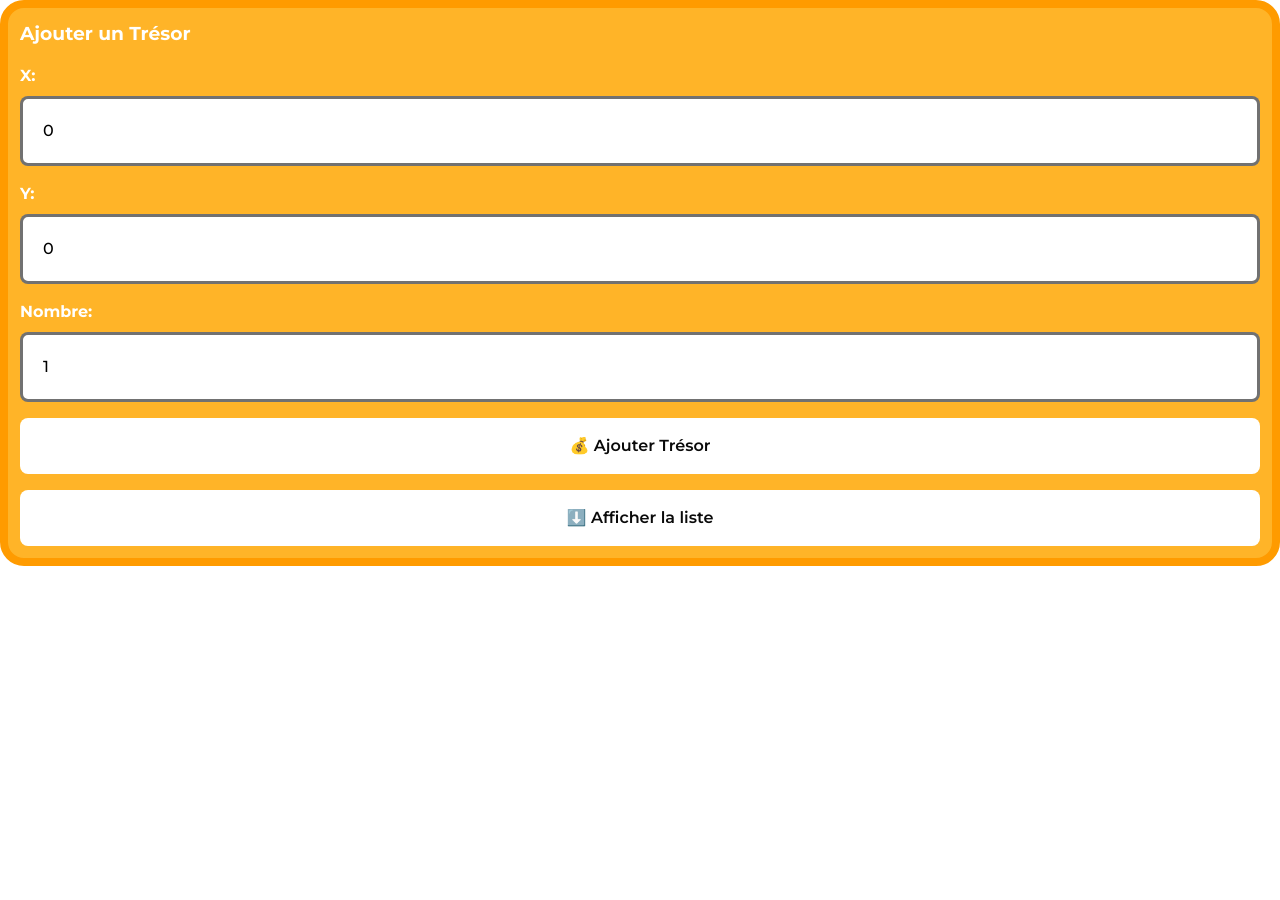
it: TreasureForm › -> Affiche la liste des trésors après avoir cliqué sur Afficher la liste.
Expected: the text "Liste des Trésors" is not shown
Click the button with test id "treasure-toggle-list-button".
click(640, 518)  # box [20,490,1260,546]
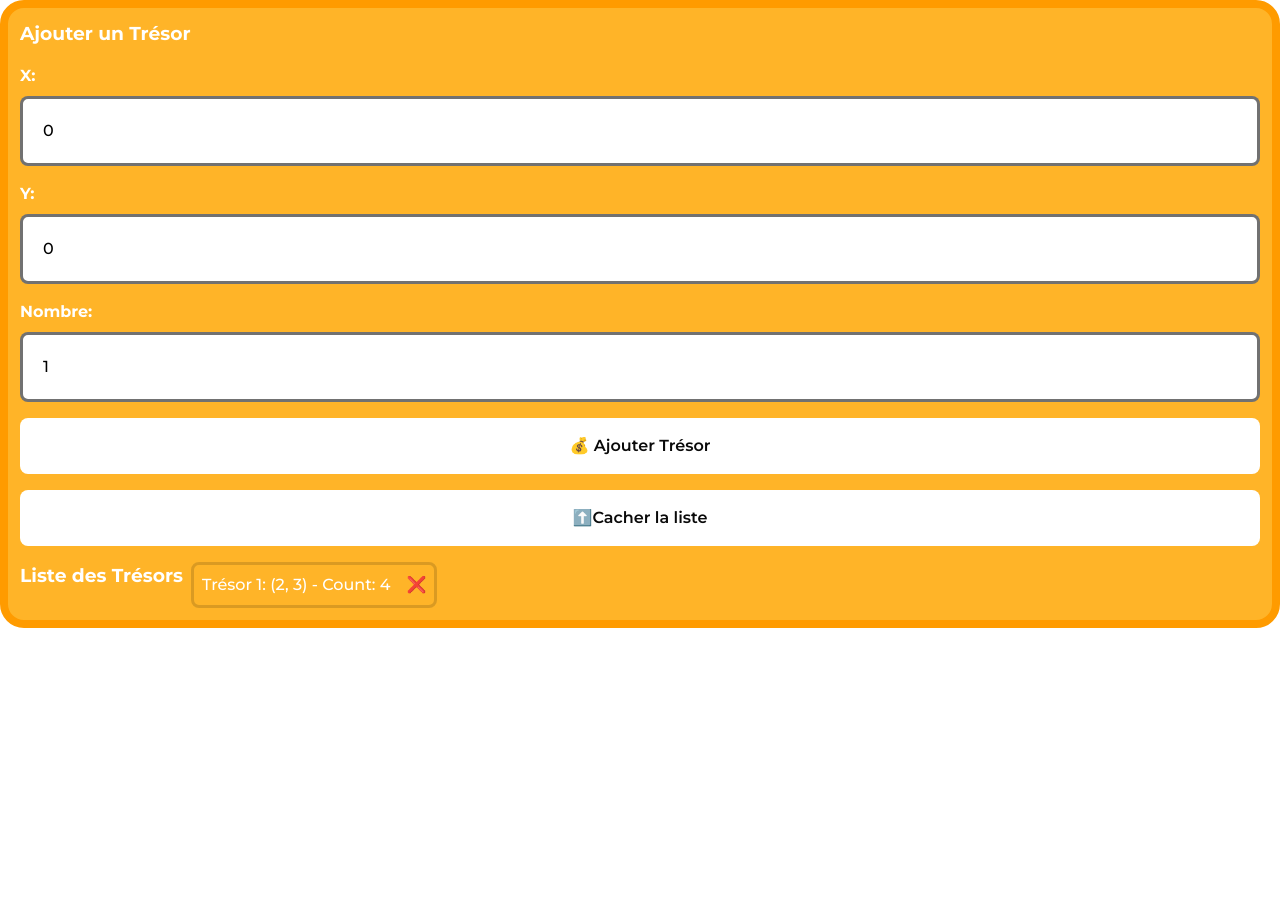
Expected: the heading "Liste des Trésors" is shown, [20,564,183,587]
Click the button with test id "treasure-toggle-list-button".
click(640, 518)  # box [20,490,1260,546]
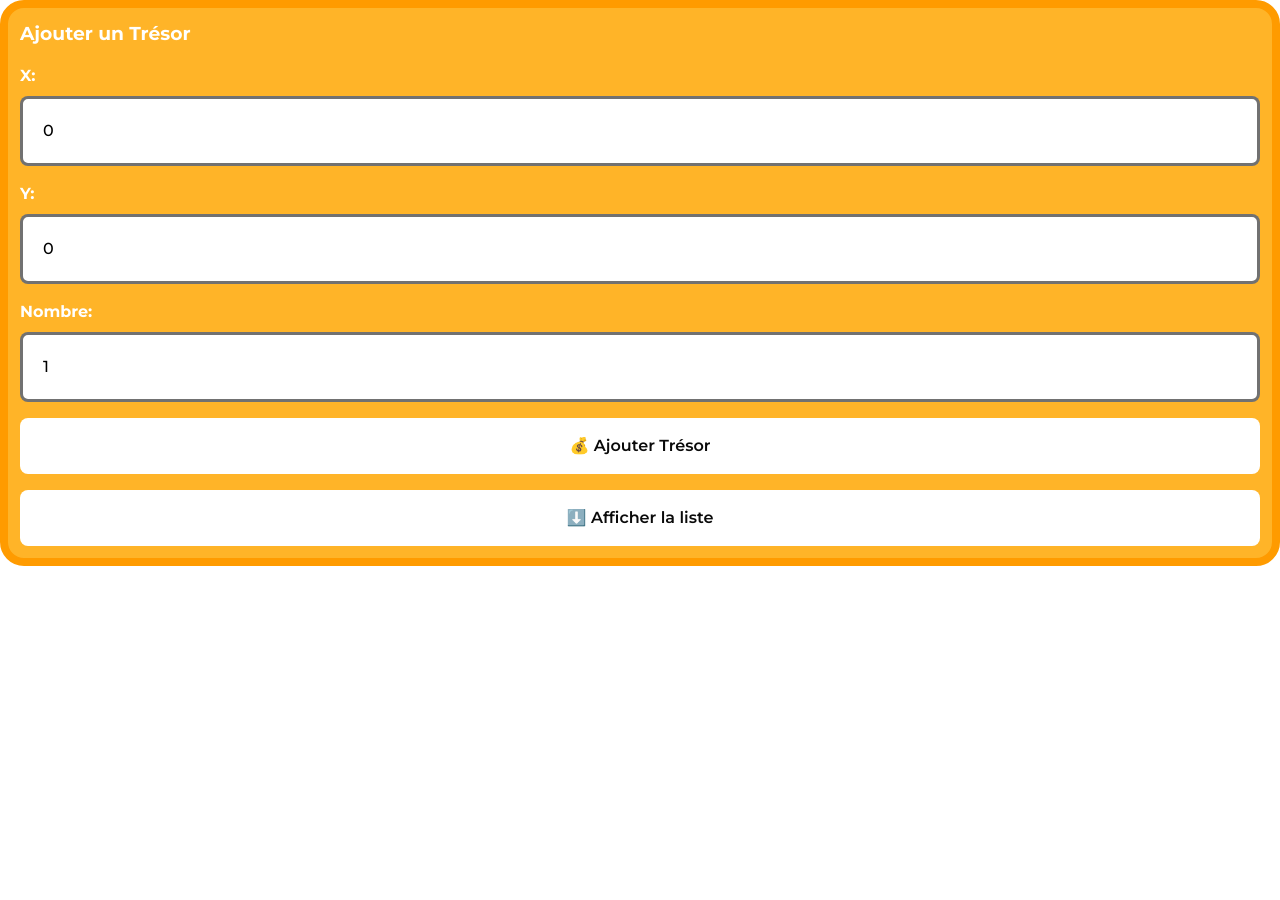
Expected: the heading "Liste des Trésors" is gone
